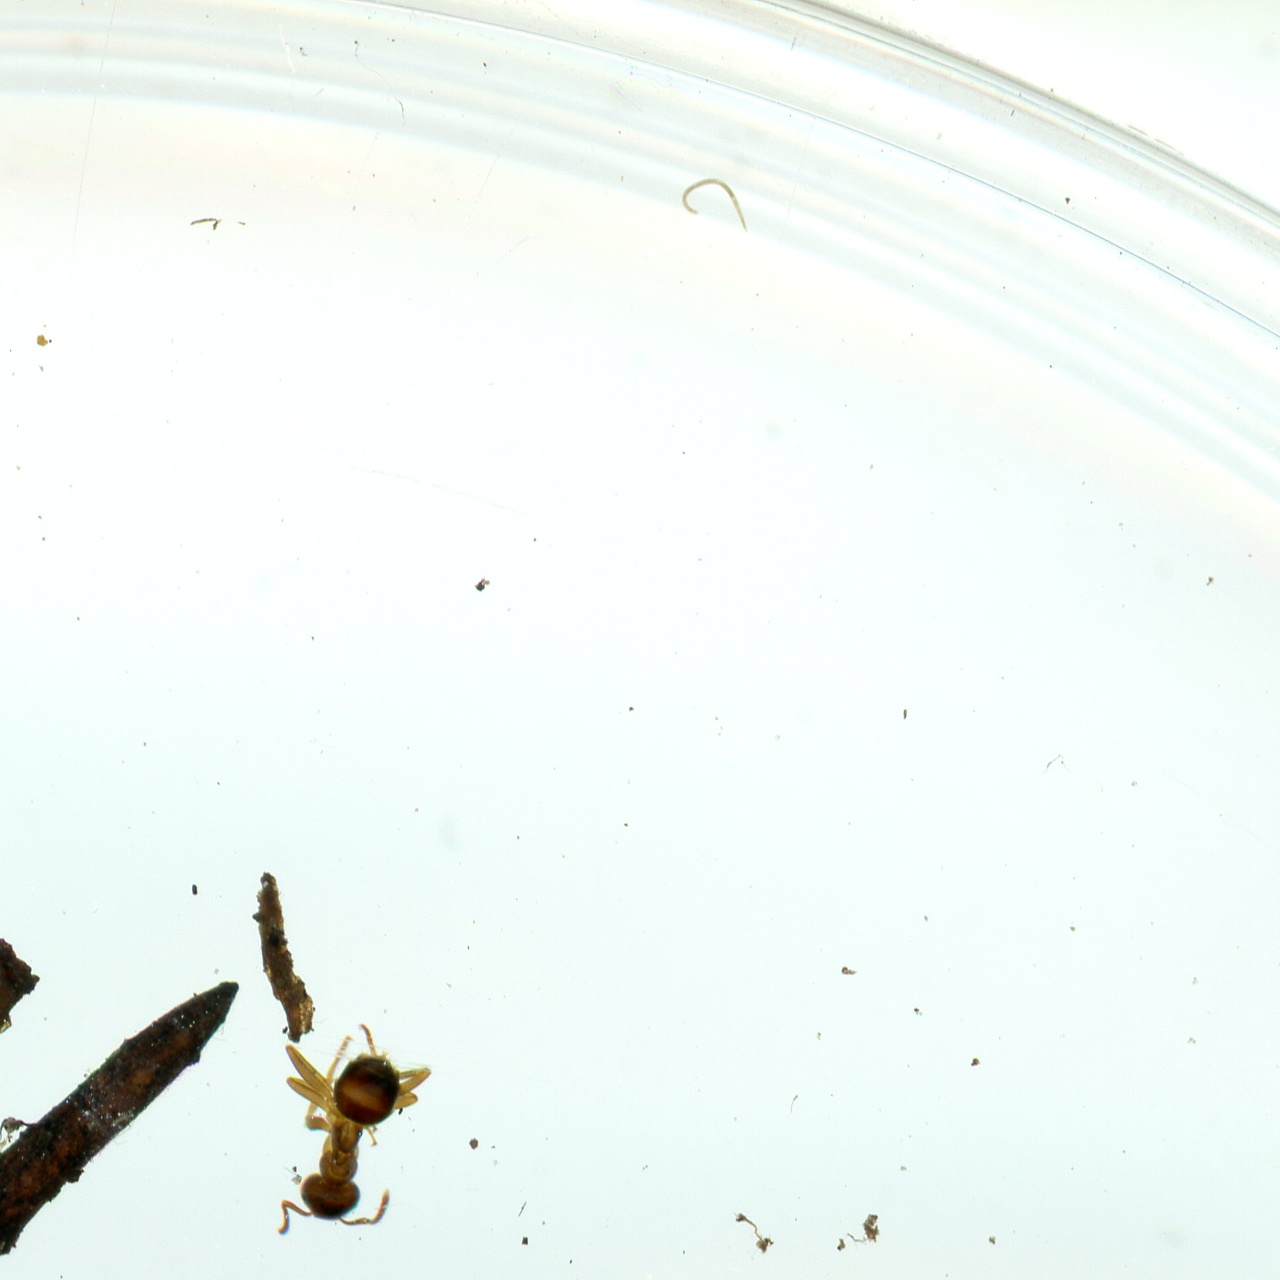arthropod: (272, 1022, 433, 1241)
